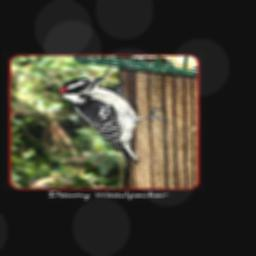Woodpecker: (58, 75, 171, 163)
